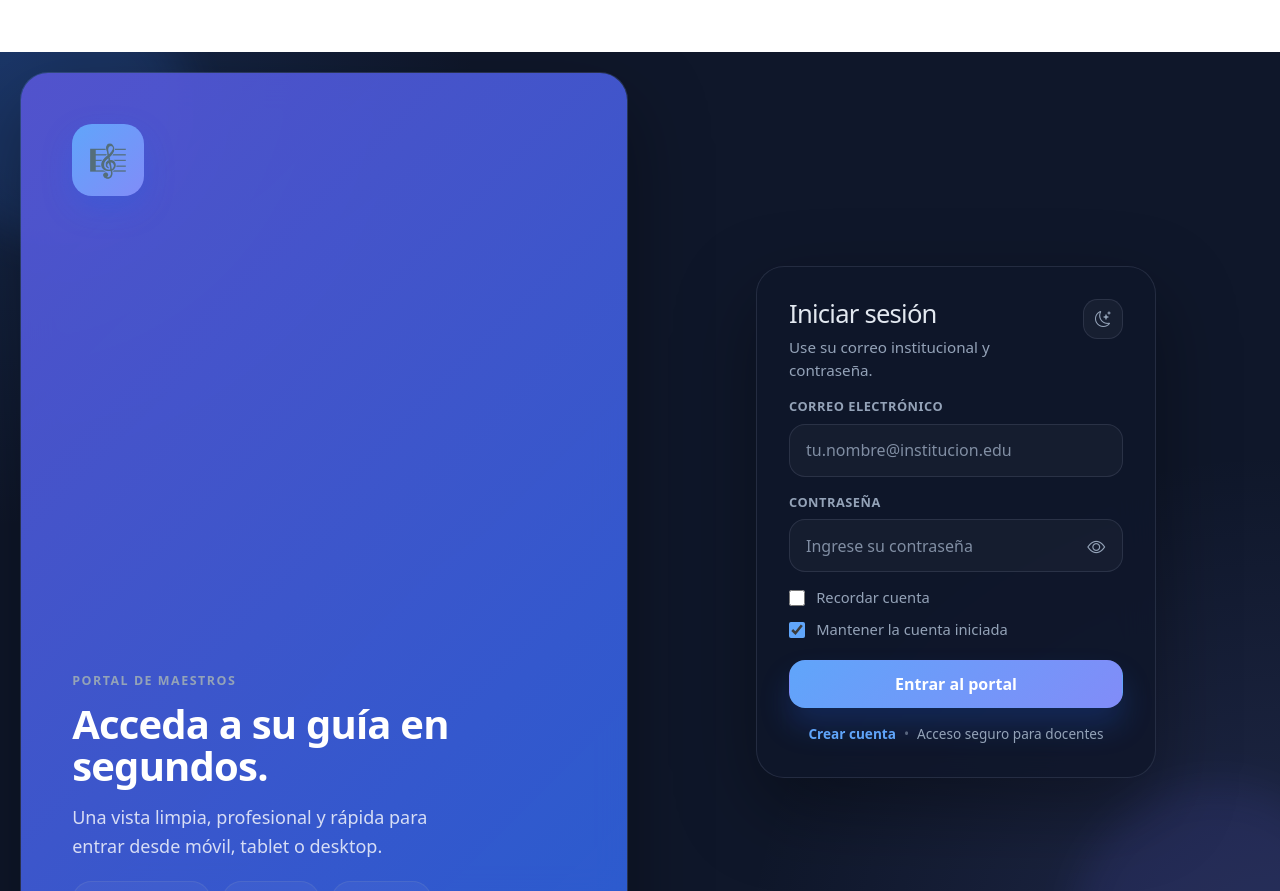
loginView › displays error message on failed login
Type "bad@test.com" into the field labelled "Correo electrónico" at coordinates (956, 450), box [789,424,1123,477]
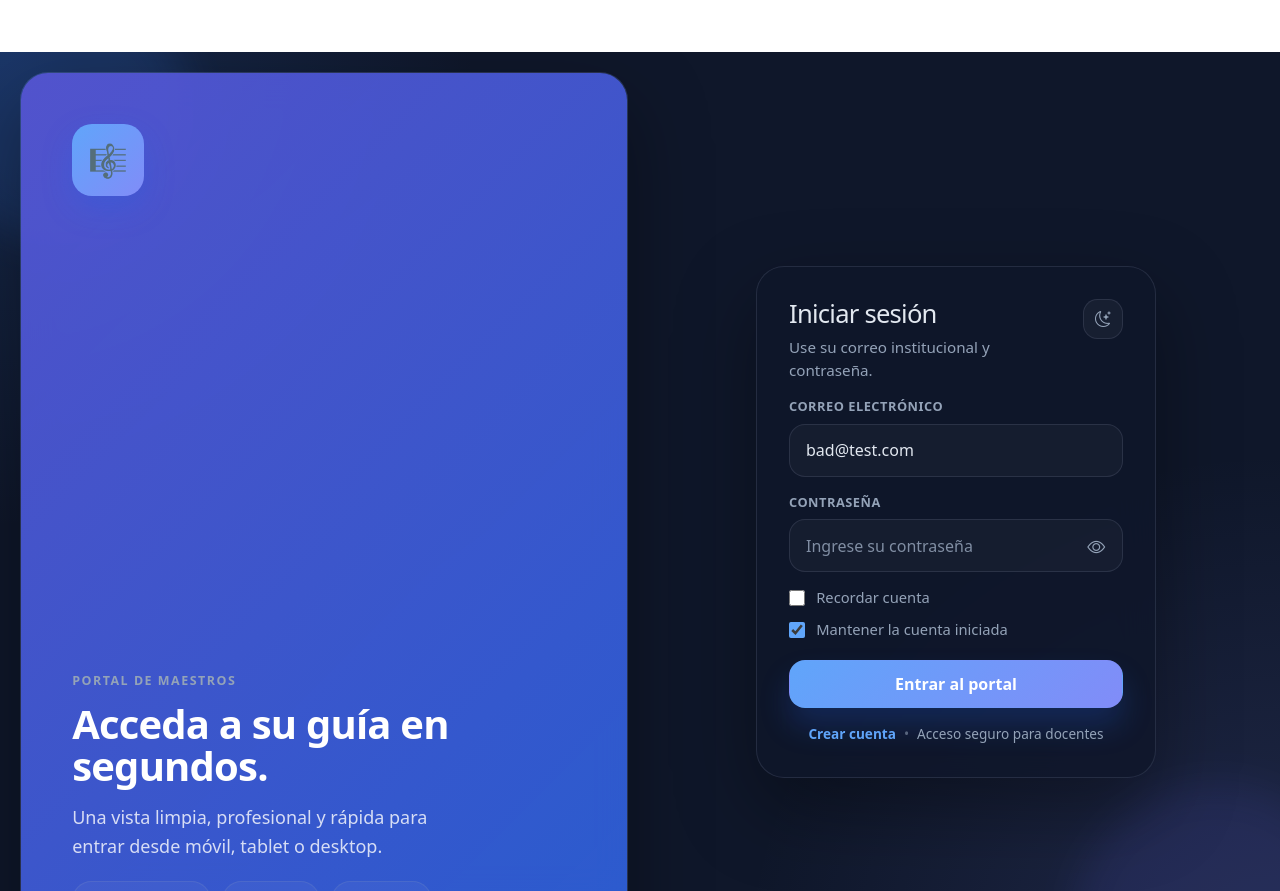
Type "wrong" into the password field labelled "Contraseña" at coordinates (956, 546), box [789,519,1123,572]
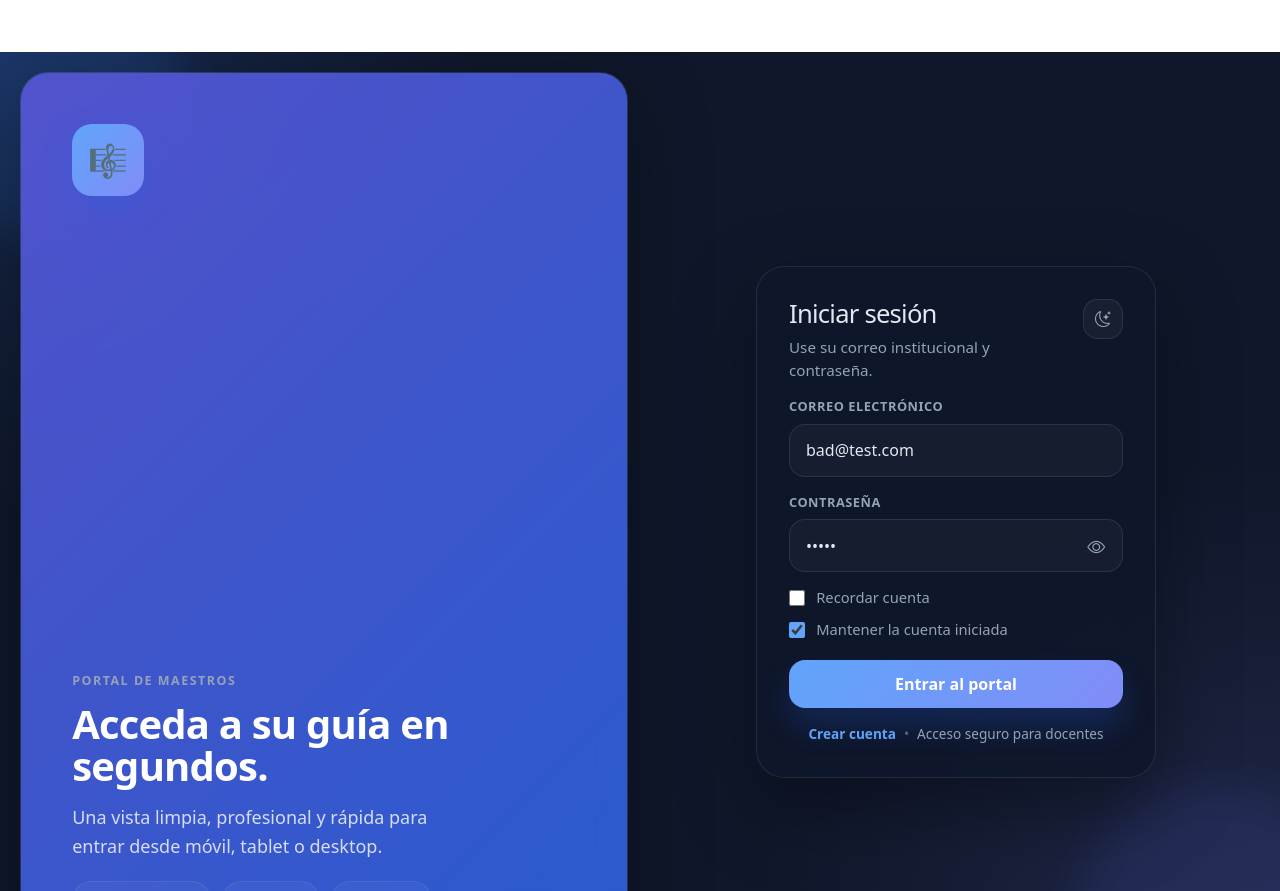
Click the button "Entrar al portal" at coordinates (956, 684), box [789,660,1123,708]
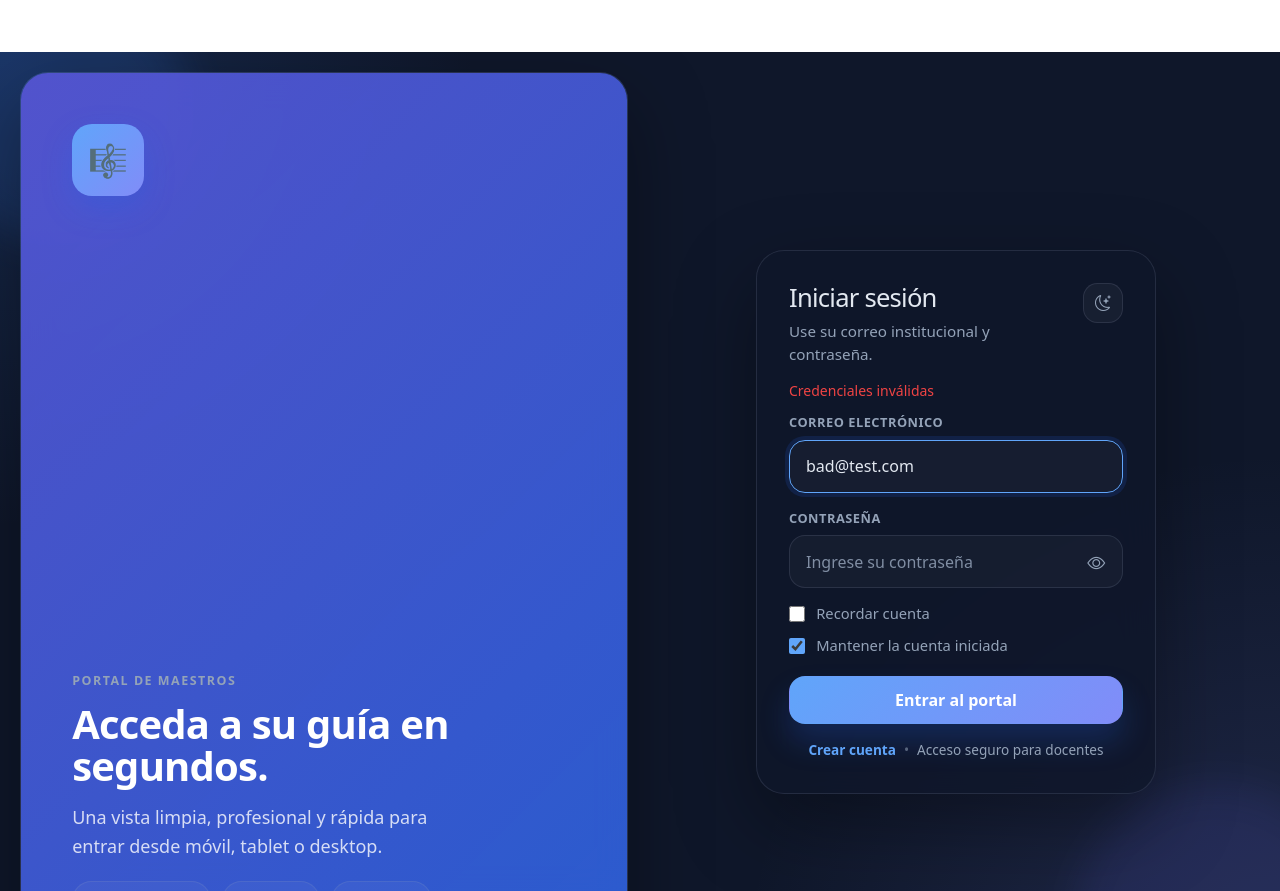
Result: the message "Credenciales inválidas" is shown at [789,381,934,400]
